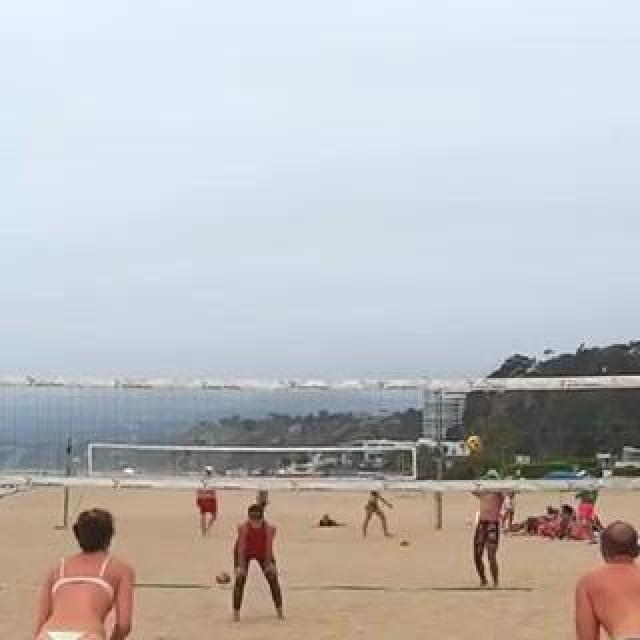volleyball: (463, 435, 483, 455), (215, 570, 231, 586)
